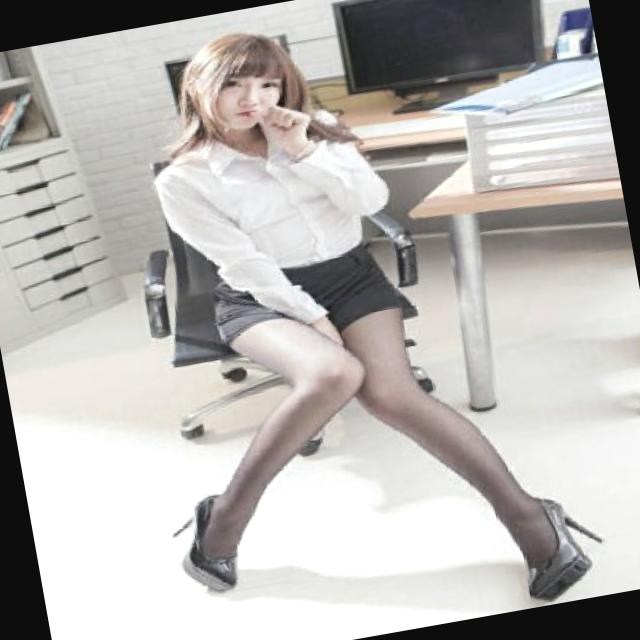Person: (106, 0, 520, 622)
